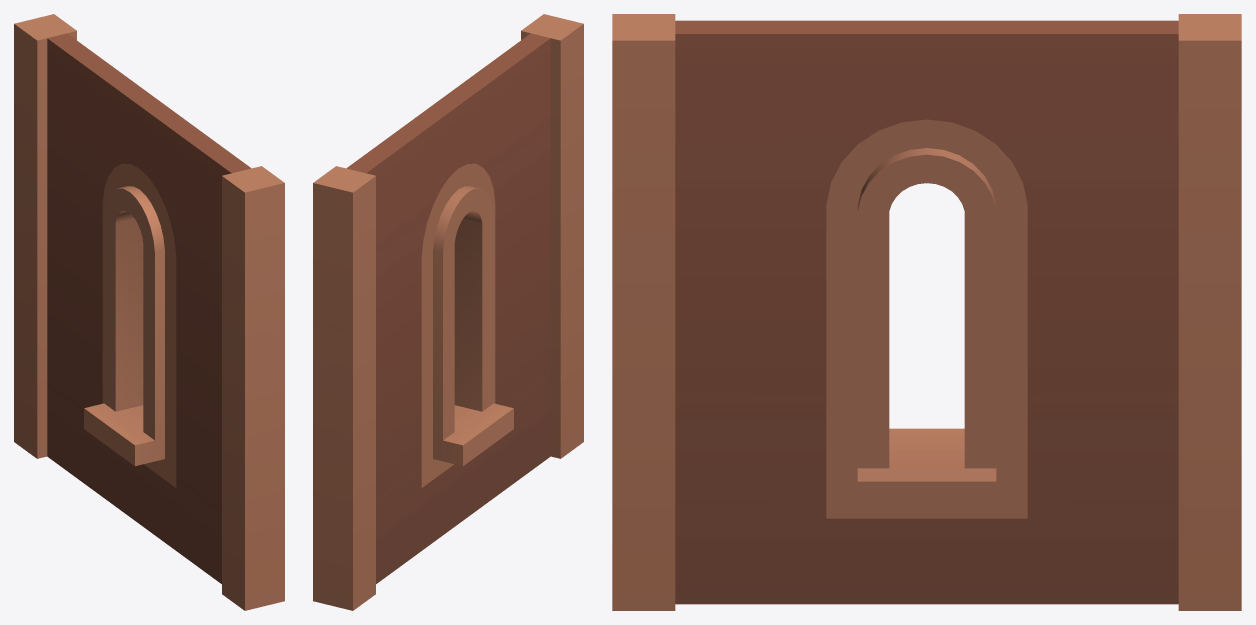
File: wall-wood-window-round.glb
The picture shows the model from 3 angles, left to right: view 1: azimuth 30°, elevation 25°; view 2: azimuth 150°, elevation 25°; view 3: azimuth 270°, elevation 25°; orthographic projection. The views are drawn at different scales.
Parts seen in each view (by area): view 1: wall-wood-window-round; view 2: wall-wood-window-round; view 3: wall-wood-window-round.
Boxes of the visible parts, bbox=[...] form: wall-wood-window-round: bbox=[14, 14, 284, 610]; wall-wood-window-round: bbox=[313, 14, 583, 610]; wall-wood-window-round: bbox=[612, 14, 1241, 610].
Size of the model in its own units: 0.2 by 1 by 1.
Materials: 1 (1 with a texture image).
